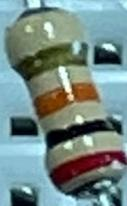Black: (42, 117, 114, 149)
Orange: (32, 81, 99, 118)
Red: (49, 148, 125, 185)
Side-Gold: (10, 41, 92, 80)
